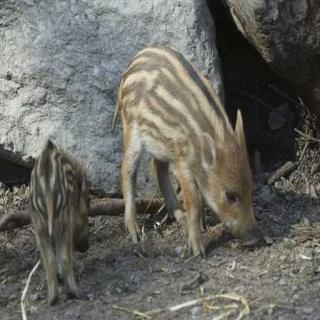Pig: (111, 40, 278, 267)
